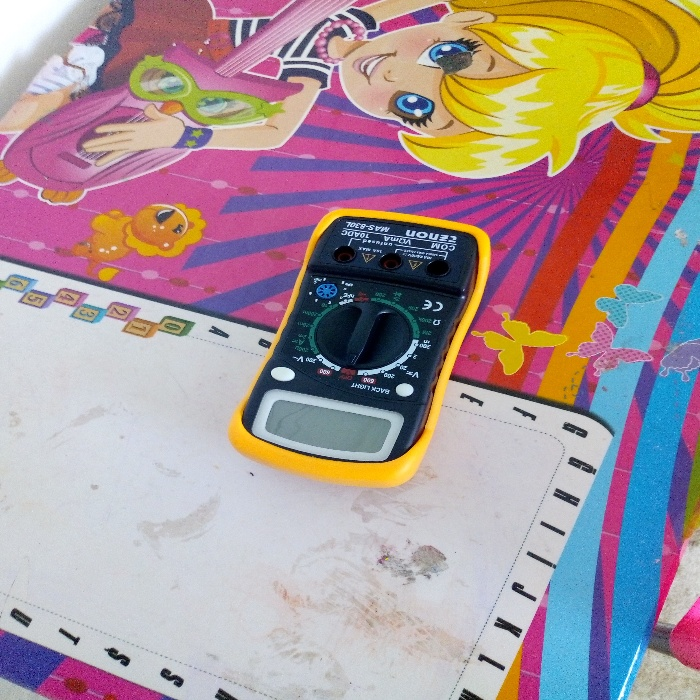multimetre: (223, 170, 499, 491)
